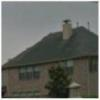chimneys: (62, 18, 74, 42)
